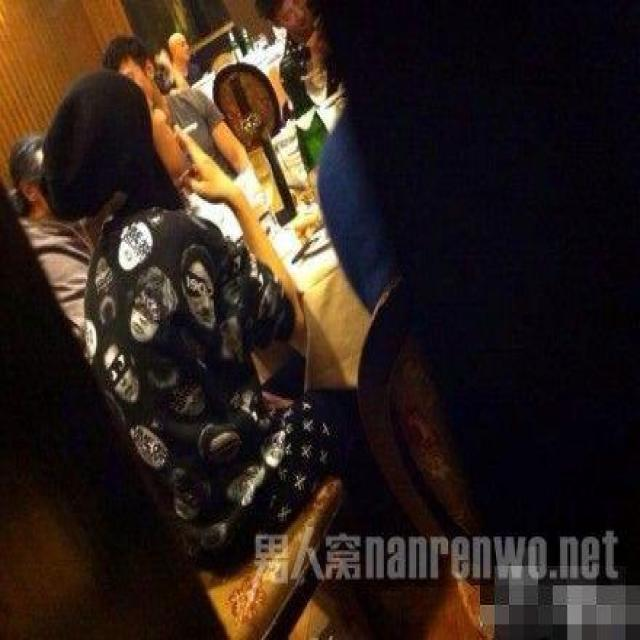rokok: (168, 114, 205, 146)
